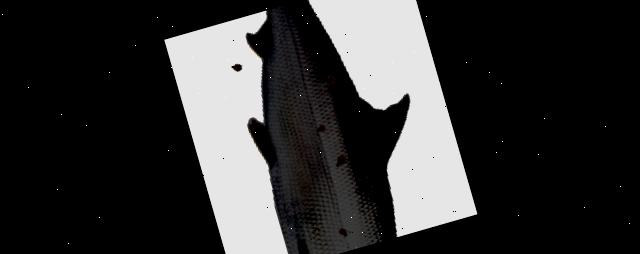Parasitic Disease: (245, 0, 408, 254), (246, 0, 407, 254)
